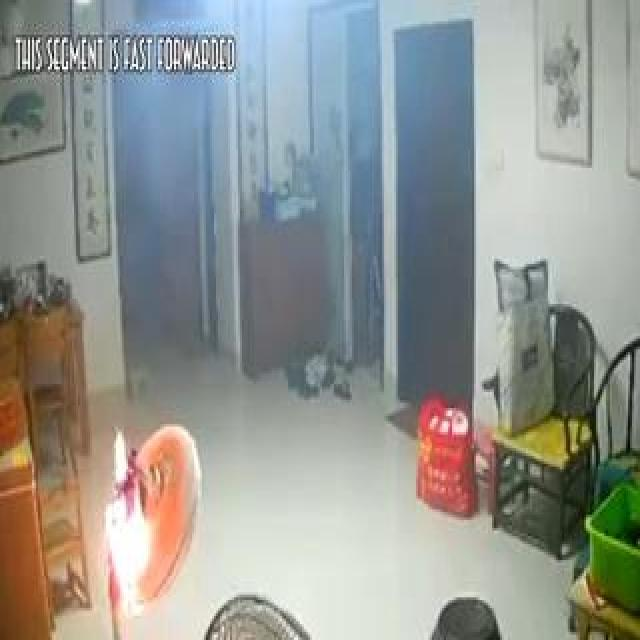Fire: (98, 382, 206, 622)
